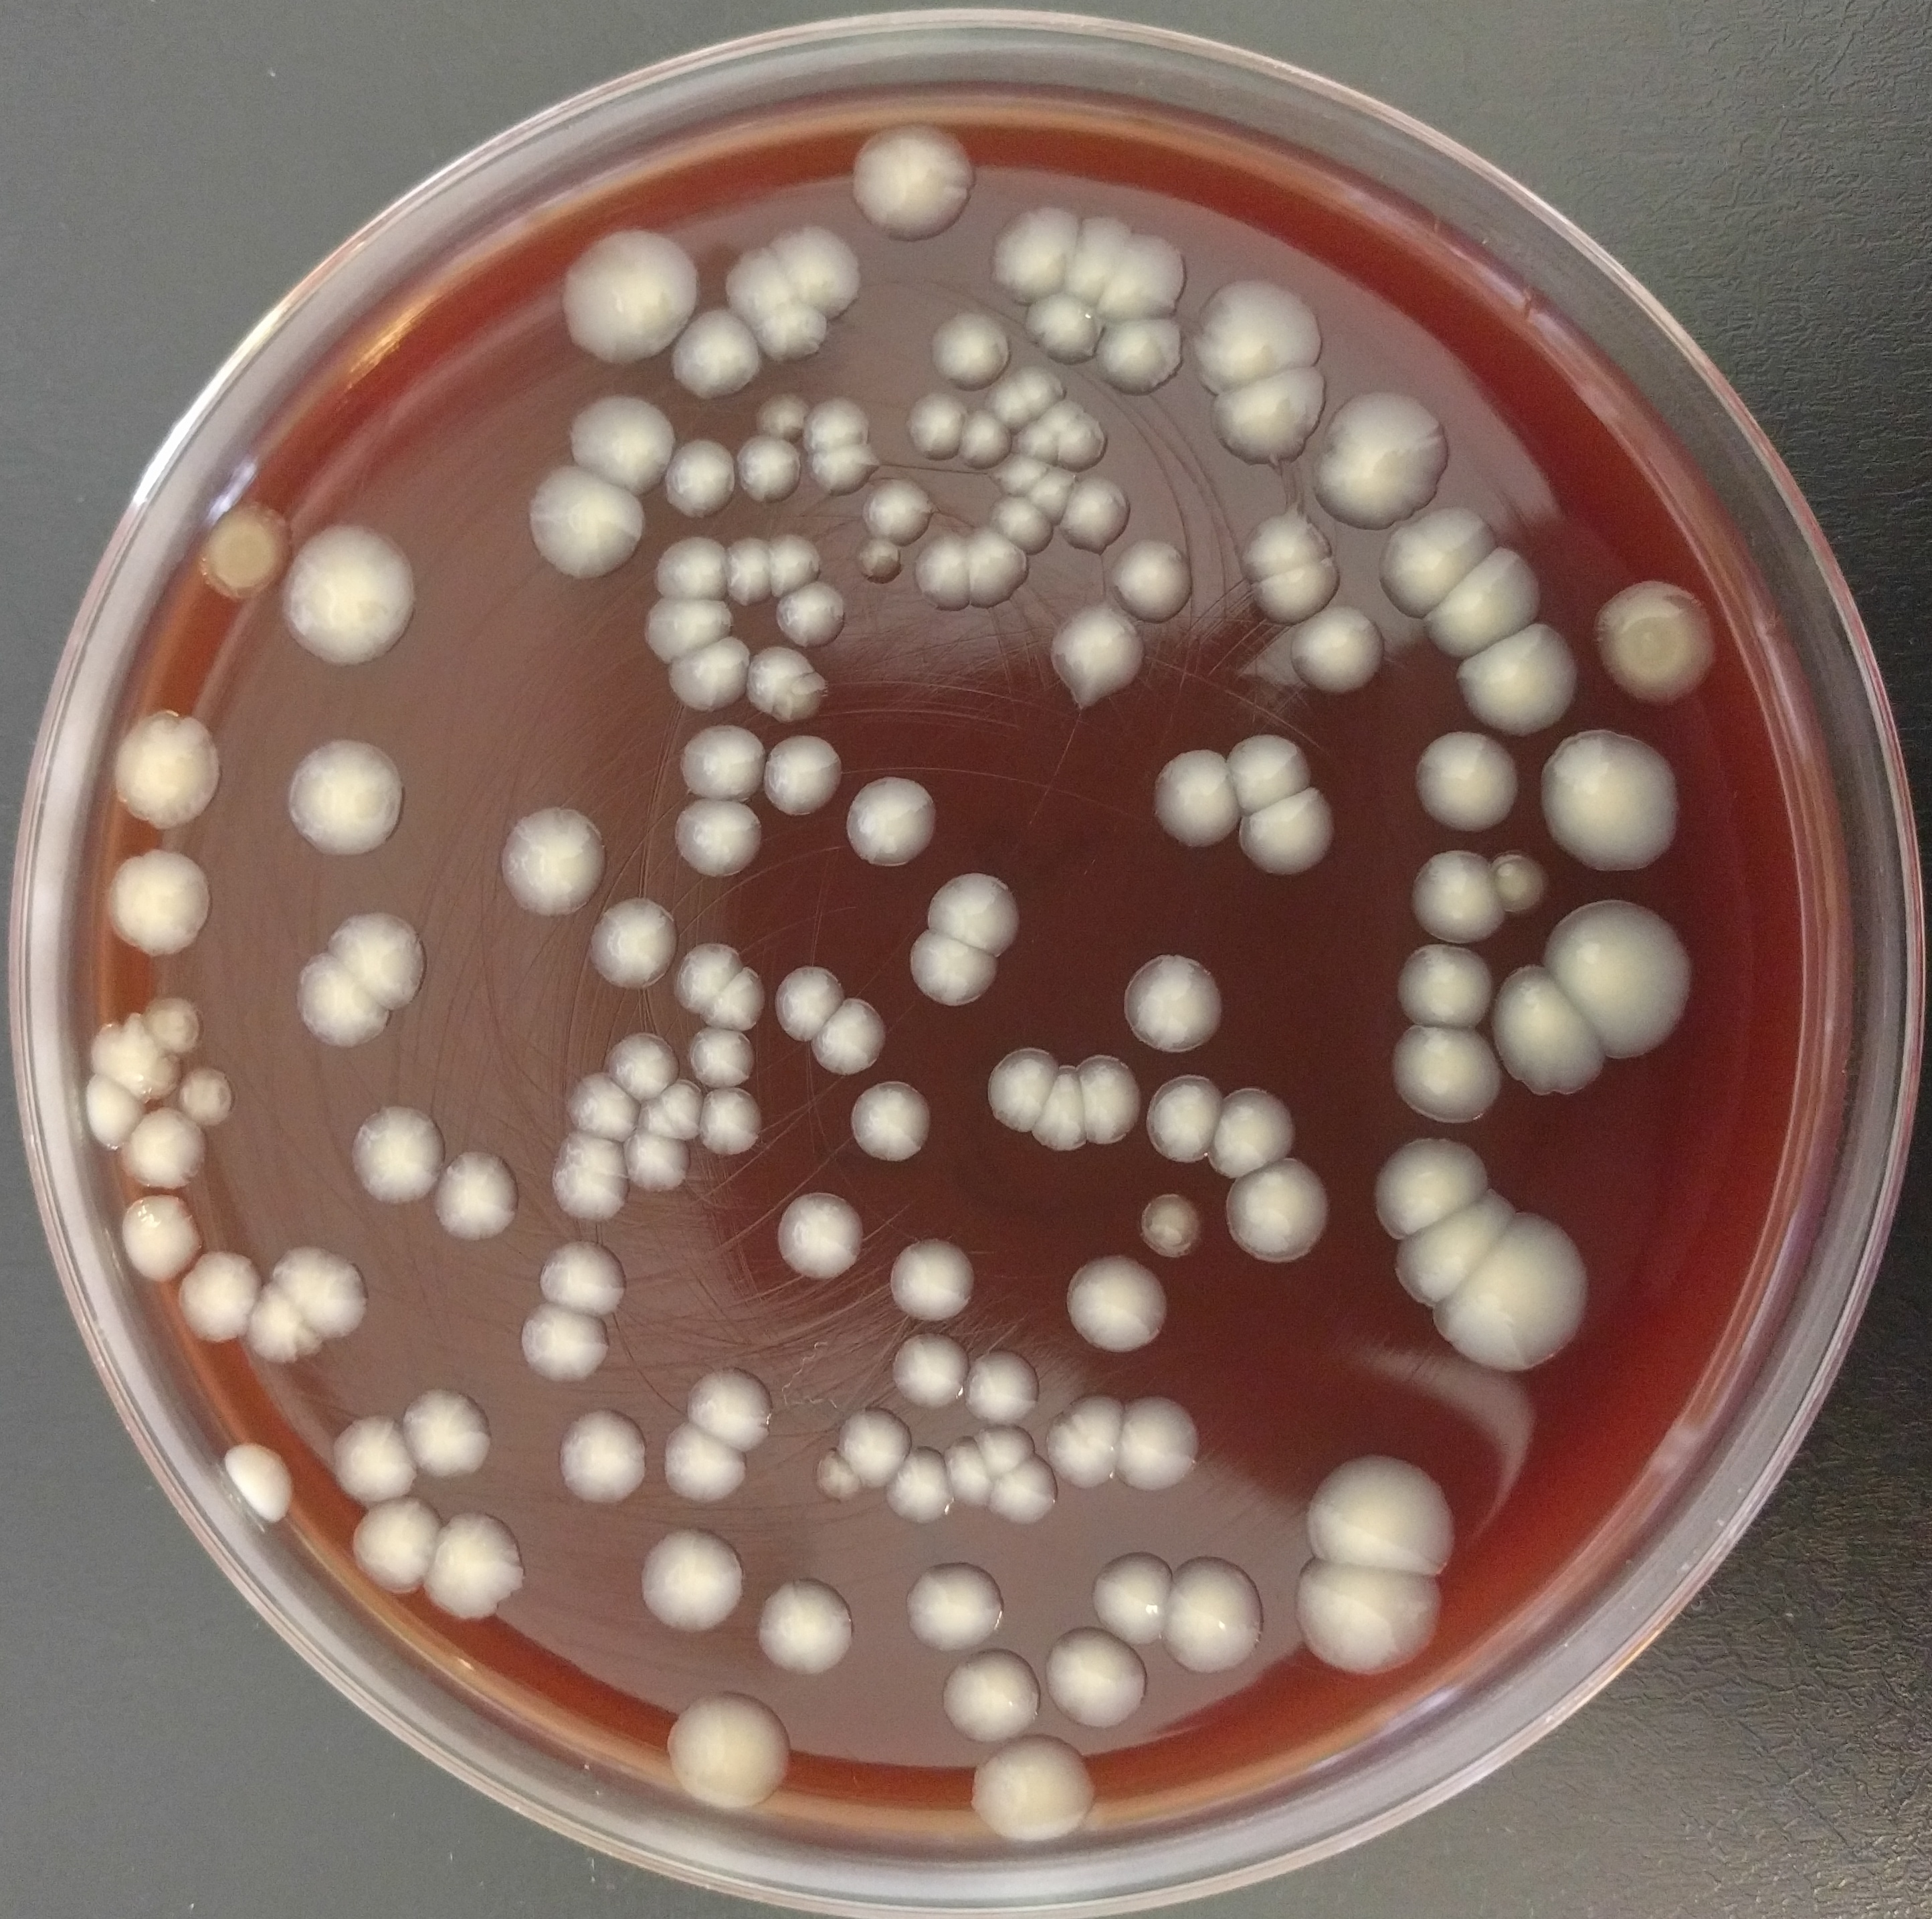sp05: (1540, 894, 1697, 1072), (1435, 1209, 1597, 1374), (1537, 724, 1683, 875), (278, 517, 418, 671), (1308, 385, 1449, 532), (557, 227, 704, 367), (1305, 1450, 1460, 1580), (1296, 1562, 1454, 1680), (1600, 575, 1728, 719), (660, 1689, 797, 1819), (1191, 276, 1335, 395), (278, 733, 409, 861), (845, 123, 982, 243), (1389, 1184, 1516, 1311), (964, 1733, 1099, 1850), (1451, 613, 1586, 729), (1502, 959, 1612, 1100), (522, 462, 650, 582), (109, 701, 220, 836), (1419, 539, 1540, 663), (1161, 1552, 1268, 1685), (1379, 503, 1500, 619), (1207, 364, 1338, 469), (495, 803, 613, 921), (98, 847, 214, 963), (1370, 1135, 1495, 1242), (634, 1524, 750, 1638), (1222, 1153, 1335, 1269), (1410, 724, 1523, 838), (1043, 1622, 1152, 1734), (429, 1504, 529, 1626), (1389, 1021, 1503, 1126), (566, 390, 671, 503), (1063, 1251, 1173, 1357), (1117, 1394, 1203, 1527), (292, 945, 395, 1056), (748, 1573, 859, 1676), (1045, 603, 1149, 713), (325, 909, 430, 1014), (1407, 844, 1509, 951), (348, 1494, 450, 1599), (1122, 951, 1224, 1056), (346, 1104, 446, 1211), (197, 494, 281, 619), (397, 1380, 494, 1487), (773, 1186, 873, 1288), (170, 1251, 267, 1357), (1286, 603, 1388, 701), (84, 1005, 188, 1102), (766, 225, 862, 329), (841, 773, 940, 873), (585, 894, 681, 996), (557, 1402, 648, 1510), (681, 1365, 780, 1462), (943, 1648, 1045, 1742), (1152, 747, 1244, 851), (327, 1413, 427, 1506), (1089, 306, 1189, 399), (903, 1559, 1006, 1648), (1103, 531, 1198, 627), (667, 308, 768, 399), (912, 873, 1022, 956), (1087, 1548, 1177, 1650), (1236, 789, 1338, 879), (1393, 940, 1495, 1030), (1047, 1387, 1133, 1492), (1208, 1086, 1303, 1181), (427, 1146, 525, 1237), (511, 1302, 618, 1385), (989, 202, 1082, 297), (1096, 234, 1186, 330), (669, 796, 768, 884), (883, 1237, 984, 1323), (1073, 1047, 1138, 1179), (1235, 504, 1347, 580), (116, 1191, 204, 1288), (536, 1232, 636, 1316), (272, 1248, 369, 1334), (246, 1281, 337, 1369), (1221, 733, 1314, 817), (831, 1404, 915, 1495), (660, 434, 739, 531), (662, 1422, 750, 1508), (847, 1077, 936, 1162), (674, 721, 766, 803), (748, 643, 840, 726), (1247, 555, 1351, 627), (761, 733, 843, 822), (903, 935, 1003, 1009), (1147, 1068, 1224, 1163), (125, 1105, 211, 1190), (801, 995, 889, 1077), (662, 634, 755, 712), (987, 1040, 1056, 1142), (927, 311, 1012, 394), (890, 1329, 973, 1411), (718, 244, 804, 323), (220, 1441, 297, 1529), (961, 1346, 1045, 1425), (639, 597, 738, 663), (1057, 476, 1131, 562), (602, 1026, 681, 1105), (1135, 1179, 1208, 1264), (1029, 1058, 1092, 1156), (964, 525, 1031, 619), (690, 1088, 768, 1167), (1017, 297, 1101, 369), (1068, 213, 1136, 301), (982, 366, 1071, 432), (671, 938, 745, 1017), (732, 432, 806, 511), (773, 963, 845, 1044), (771, 583, 848, 657), (544, 1163, 634, 1225), (984, 1455, 1057, 1529), (564, 1068, 639, 1141), (985, 490, 1057, 566), (79, 1074, 146, 1155), (889, 1443, 955, 1524), (757, 299, 834, 366), (903, 388, 970, 466), (859, 476, 938, 541), (618, 1130, 699, 1193), (652, 539, 732, 603), (701, 959, 773, 1026), (544, 1128, 632, 1181), (634, 1086, 703, 1151), (687, 1026, 757, 1090), (766, 531, 827, 601), (804, 445, 883, 499), (139, 991, 205, 1054), (943, 1432, 994, 1513), (179, 1061, 239, 1130), (722, 532, 775, 610), (915, 536, 966, 615), (801, 394, 873, 448), (970, 1423, 1040, 1478), (961, 404, 1012, 469), (1496, 851, 1549, 912), (813, 1448, 864, 1510), (854, 534, 905, 594), (1056, 411, 1114, 460), (989, 453, 1052, 497), (748, 390, 810, 432), (1036, 392, 1085, 438), (1013, 418, 1049, 457)
